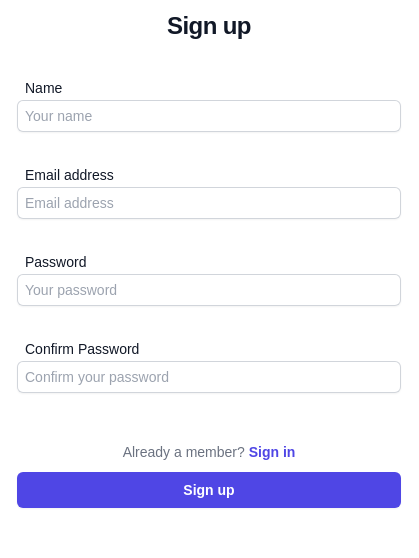
SignUpForm Component › should validate the password field
Step 1. Type "short" into the password field named "password" → (209, 290), box x1=17 y1=274 x2=401 y2=306
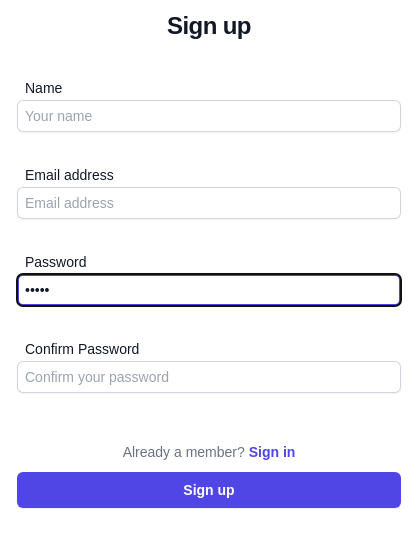
Step 2. Click the submit button → (209, 490), box x1=17 y1=472 x2=401 y2=508
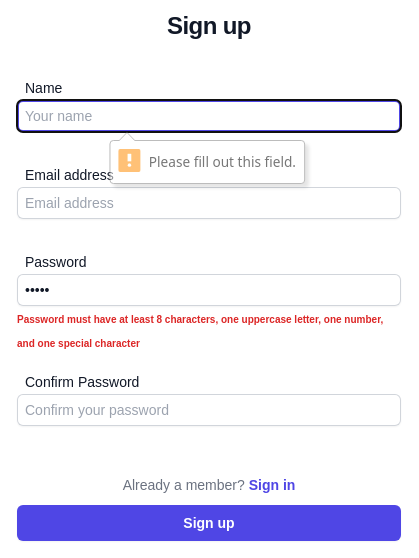
Result: the text "Password must have at least 8 characters, one uppercase letter, one number, and one special character" is shown at x1=17 y1=314 x2=383 y2=349
